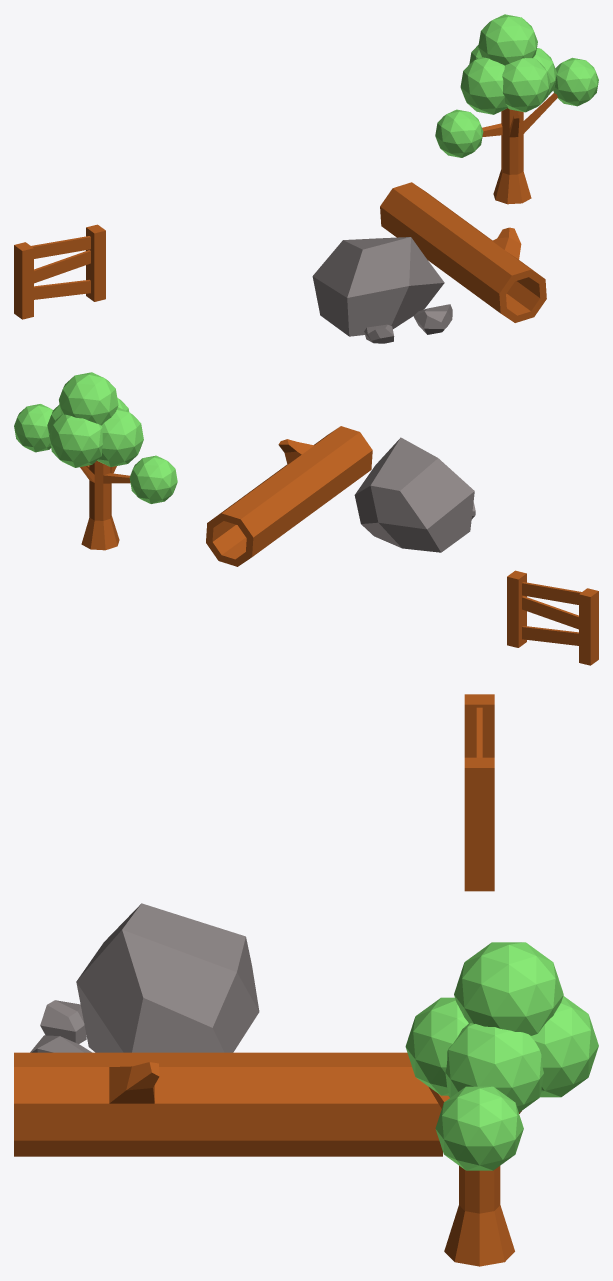
Rendered from 9_Various.fbx.
3 views of the same model, one above another, from view 1: azimuth 30°, elevation 25°; view 2: azimuth 150°, elevation 25°; view 3: azimuth 270°, elevation 25° (orthographic). The views are drawn at different scales.
Visible parts, largest first — view 1: Tree, Rock, Log, Fence; view 2: Tree, Log, Rock, Fence; view 3: Log, Tree, Rock, Fence.
Boxes of the visible parts, <box> form: Tree: <box>435,14,598,204</box>; Rock: <box>312,237,452,343</box>; Log: <box>380,182,546,322</box>; Fence: <box>14,224,105,319</box>; Tree: <box>14,372,177,550</box>; Log: <box>206,426,372,566</box>; Rock: <box>354,437,475,552</box>; Fence: <box>507,570,598,665</box>; Log: <box>14,1052,442,1156</box>; Tree: <box>405,942,598,1266</box>; Rock: <box>30,903,259,1052</box>; Fence: <box>464,694,494,891</box>.
Size of the model in its own units: 1148 by 330 by 561.
